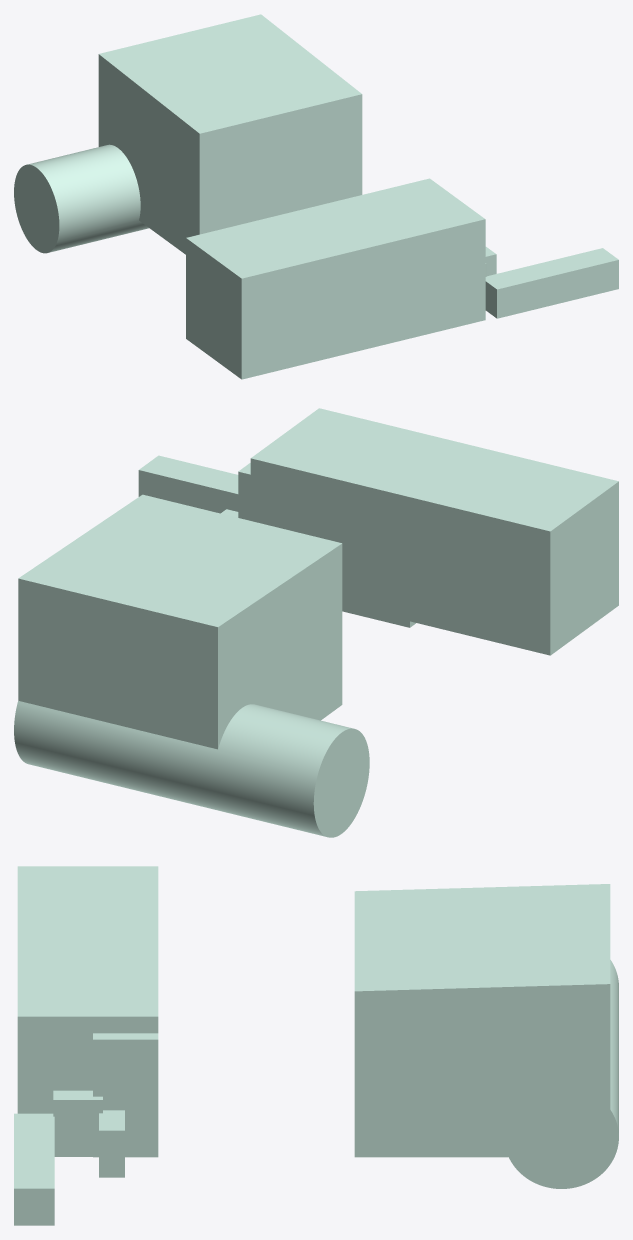
The picture shows the model from 3 angles, top to bottom: view 1: azimuth 30°, elevation 25°; view 2: azimuth 150°, elevation 25°; view 3: azimuth 270°, elevation 25°; orthographic projection. The views are drawn at different scales.
Visible parts, largest first — view 1: Renderer Node; view 2: Renderer Node; view 3: Renderer Node.
Boxes of the visible parts, x1=… form: Renderer Node: x1=14, y1=14, x2=618, y2=379; Renderer Node: x1=14, y1=408, x2=618, y2=837; Renderer Node: x1=14, y1=866, x2=618, y2=1225.
Size of the model in its own units: 1.16 by 0.4771 by 1.28.
